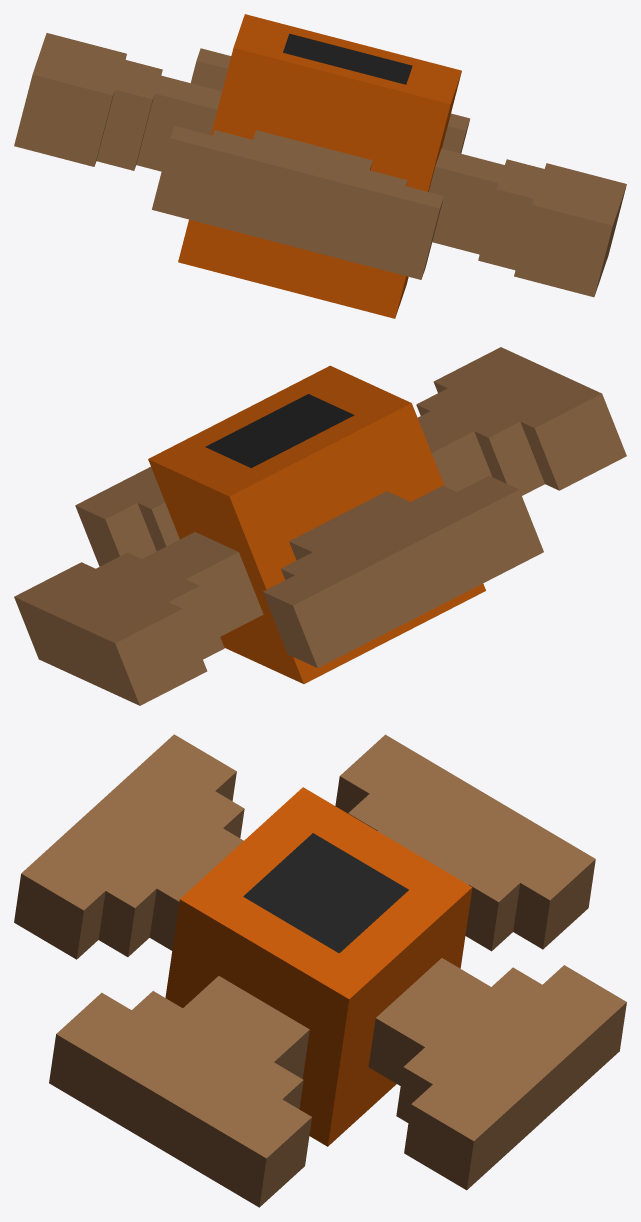
Rendered from etrafındaki şeyler.fbx.
3 views of the same model, one above another, from view 1: azimuth 30°, elevation 25°; view 2: azimuth 150°, elevation 25°; view 3: azimuth 270°, elevation 25° (orthographic). The views are drawn at different scales.
Parts seen in each view (by area): view 1: Cube.005; view 2: Cube.005; view 3: Cube.005.
Part boxes in pixels (x1=…): Cube.005: x1=14, y1=14, x2=626, y2=318; Cube.005: x1=14, y1=347, x2=626, y2=705; Cube.005: x1=14, y1=734, x2=626, y2=1207.
Bounding box in the file's own units: 121 × 61.01 × 123.
